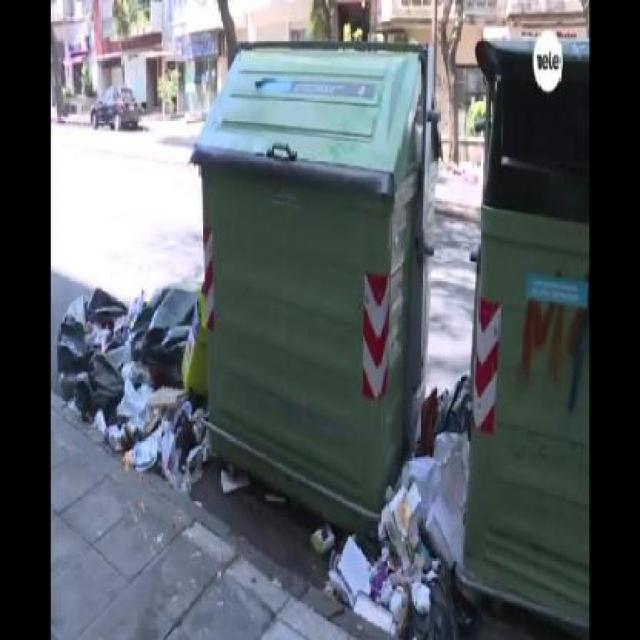garbage: (48, 257, 241, 506), (300, 509, 468, 628), (409, 380, 476, 503)
